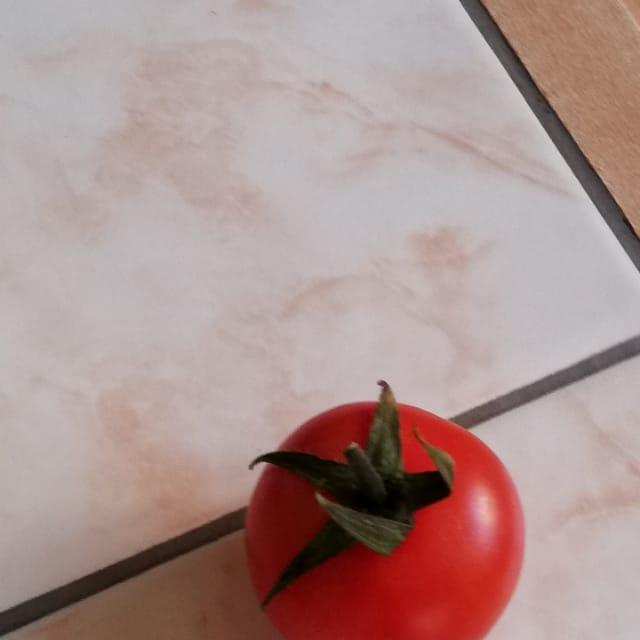tomato: (228, 355, 531, 640)
